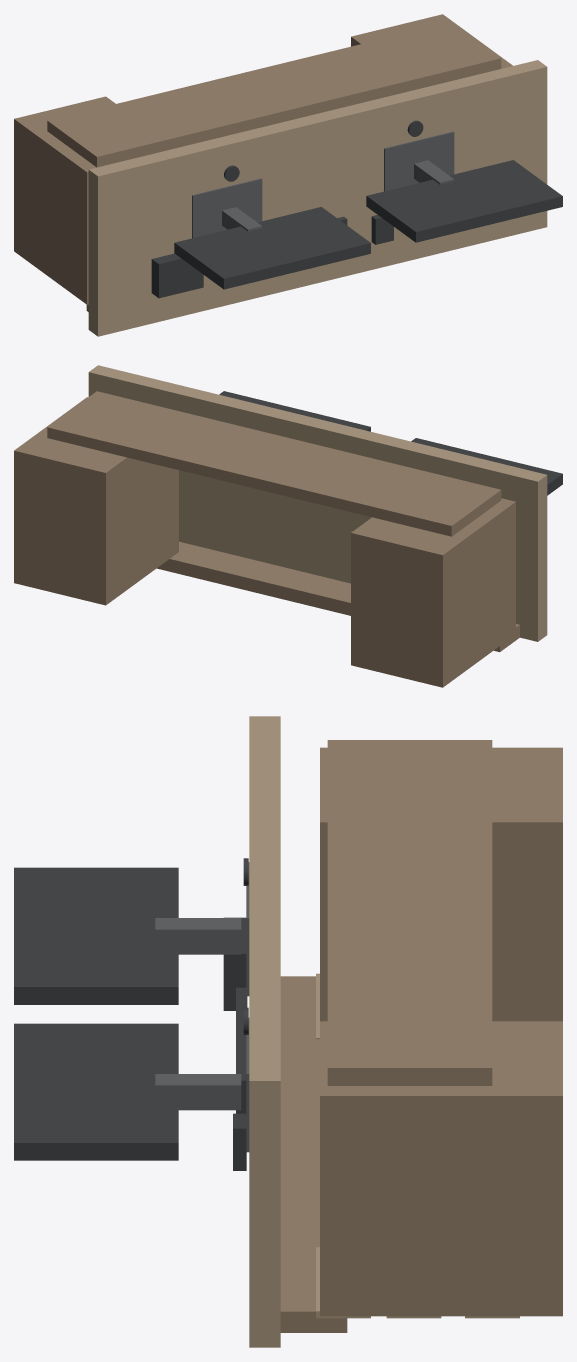
File: security_desk_two_monitors.glb
3 renders of one model, top to bottom at view 1: azimuth 30°, elevation 25°; view 2: azimuth 150°, elevation 25°; view 3: azimuth 270°, elevation 25°, orthographic. The views are drawn at different scales.
Visible parts, largest first — view 1: DeskTop, BackPanel, LeftPedestal, MonitorLeft_Frame, MonitorRight_Frame, MonitorLeft_Base, MonitorRight_Base, Console, RightPedestal, MonitorLeft_Neck, MonitorRight_Neck, Mouse; view 2: DeskTop, BackPanel, LeftPedestal, RightPedestal, DeskFrontApron, MonitorLeft_Frame, MonitorRight_Frame; view 3: RightPedestal, BackPanel, MonitorLeft_Frame, MonitorRight_Frame, LeftPedestal, DeskTop, DeskFrontApron, MonitorLeft_Neck, MonitorRight_Neck, Console, Keyboard, Mouse.
Part boxes in pixels (bbox=[...]): DeskTop: bbox=[88, 60, 547, 336]; BackPanel: bbox=[47, 22, 501, 167]; LeftPedestal: bbox=[14, 96, 115, 304]; MonitorLeft_Frame: bbox=[174, 207, 370, 289]; MonitorRight_Frame: bbox=[366, 160, 562, 242]; MonitorLeft_Base: bbox=[192, 178, 262, 238]; MonitorRight_Base: bbox=[384, 131, 454, 191]; Console: bbox=[151, 253, 203, 298]; RightPedestal: bbox=[351, 14, 512, 68]; MonitorLeft_Neck: bbox=[222, 207, 262, 231]; MonitorRight_Neck: bbox=[414, 160, 454, 184]; Mouse: bbox=[371, 215, 393, 244]; DeskTop: bbox=[88, 365, 547, 641]; BackPanel: bbox=[47, 391, 501, 536]; LeftPedestal: bbox=[351, 498, 515, 687]; RightPedestal: bbox=[14, 397, 178, 605]; DeskFrontApron: bbox=[157, 541, 519, 652]; MonitorLeft_Frame: bbox=[411, 438, 562, 495]; MonitorRight_Frame: bbox=[219, 391, 370, 431]; RightPedestal: bbox=[320, 1021, 562, 1316]; BackPanel: bbox=[327, 740, 492, 1085]; MonitorLeft_Frame: bbox=[14, 867, 178, 1004]; MonitorRight_Frame: bbox=[14, 1023, 178, 1160]; LeftPedestal: bbox=[320, 747, 562, 1021]; DeskTop: bbox=[249, 716, 280, 1347]; DeskFrontApron: bbox=[280, 976, 347, 1332]; MonitorLeft_Neck: bbox=[155, 918, 241, 954]; MonitorRight_Neck: bbox=[155, 1074, 241, 1110]; Console: bbox=[223, 917, 247, 1010]; Keyboard: bbox=[236, 987, 246, 1113]; Mouse: bbox=[233, 1113, 246, 1170].
Size of the model in its own units: 2.2 by 0.75 by 1.4.
